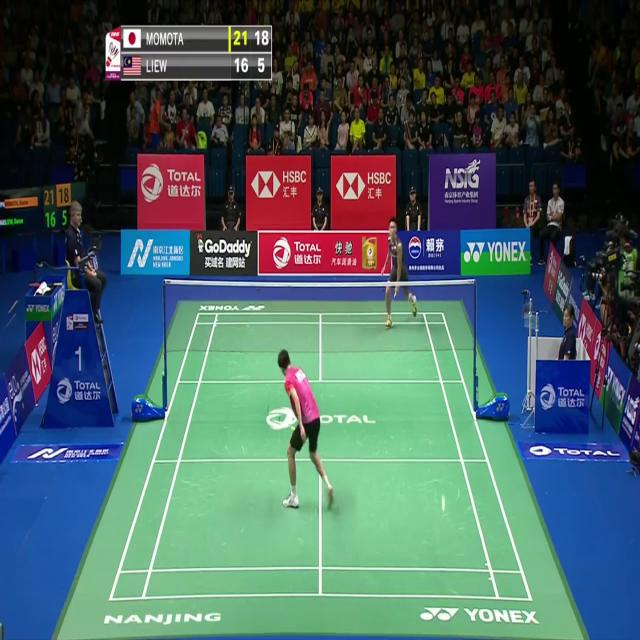Shuttlecock: (440, 499, 447, 511)
